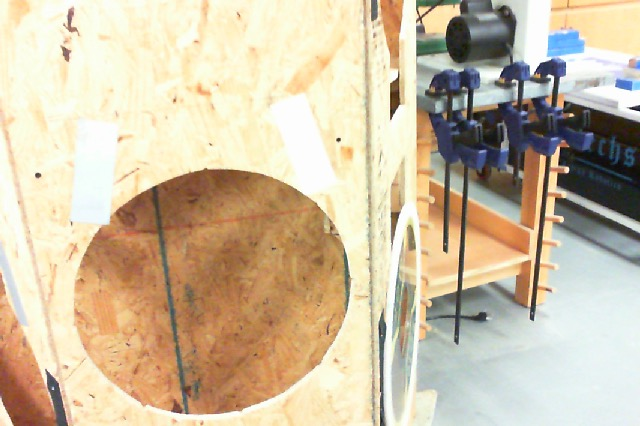Hatch: (382, 199, 422, 426)
Tape: (268, 93, 336, 194), (69, 116, 116, 225), (0, 246, 29, 327)
